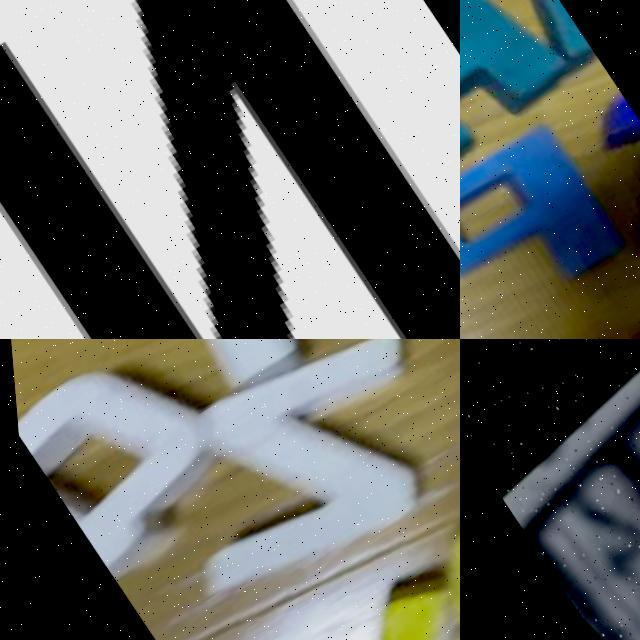4: (533, 458, 640, 610)
H: (130, 339, 453, 416)
K: (460, 0, 575, 187)
L: (185, 566, 460, 640)
N: (0, 0, 460, 339)
P: (460, 119, 632, 339)
R: (375, 430, 460, 640)
V: (525, 276, 640, 339)
Z: (149, 339, 460, 608)
